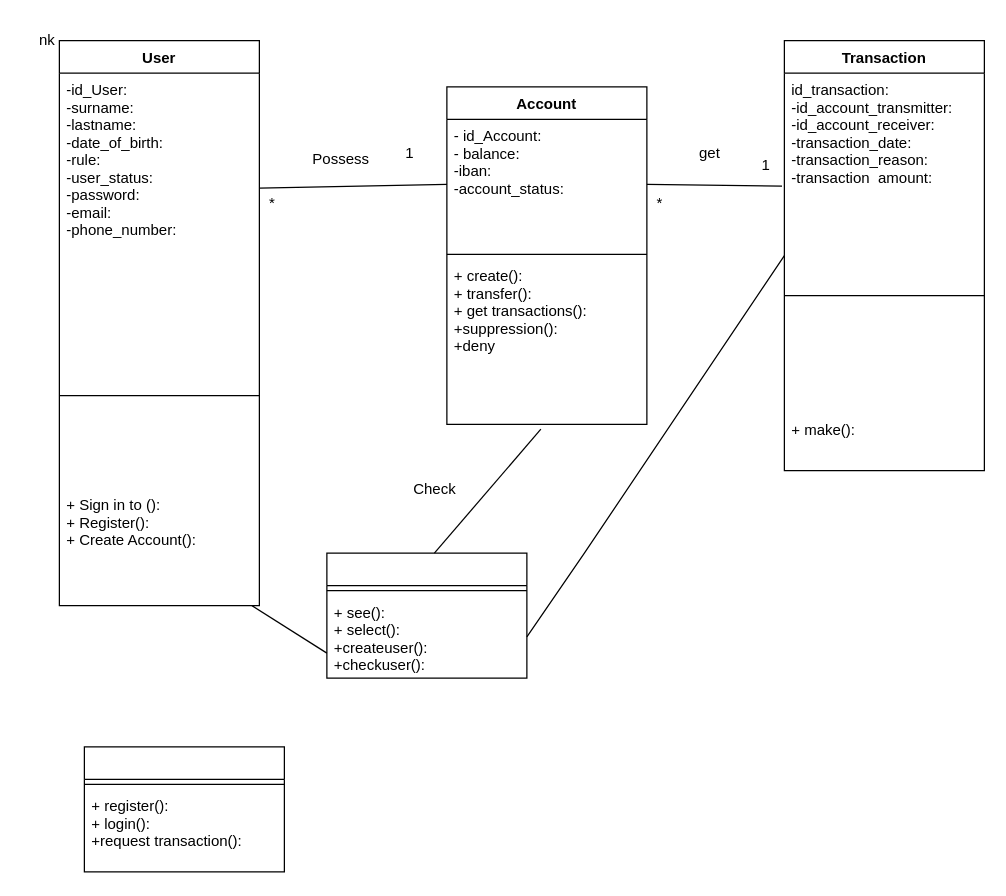
This 1006x896 diagram has some shape labels left out. Each missing label, with the box of its shape:
Client: (83, 746, 284, 872)
Client Controller: (326, 552, 527, 678)
